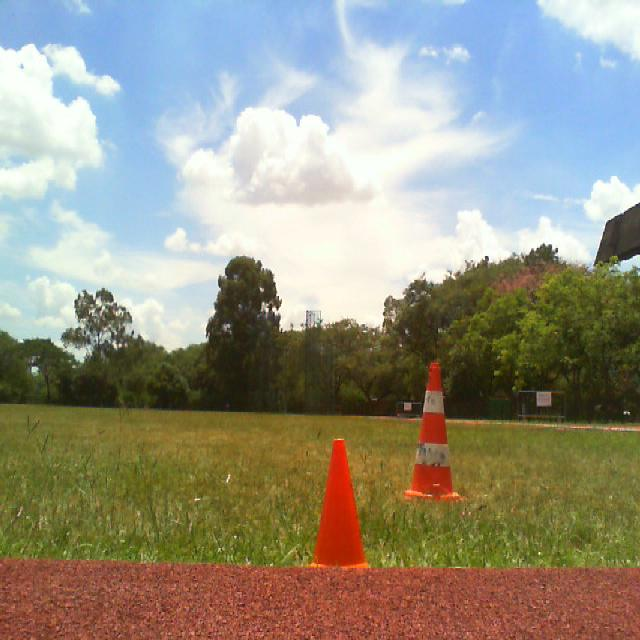cone: (404, 361, 461, 499), (309, 439, 369, 568)
